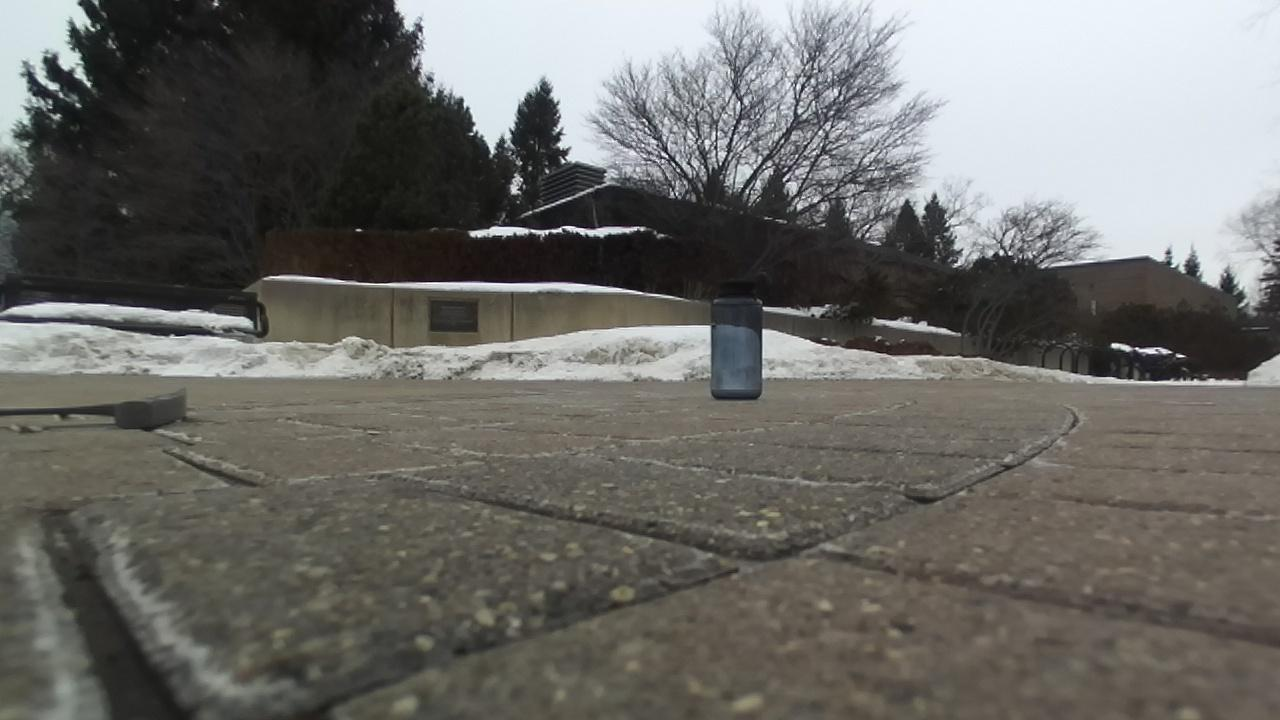bottle: (711, 280, 762, 399)
